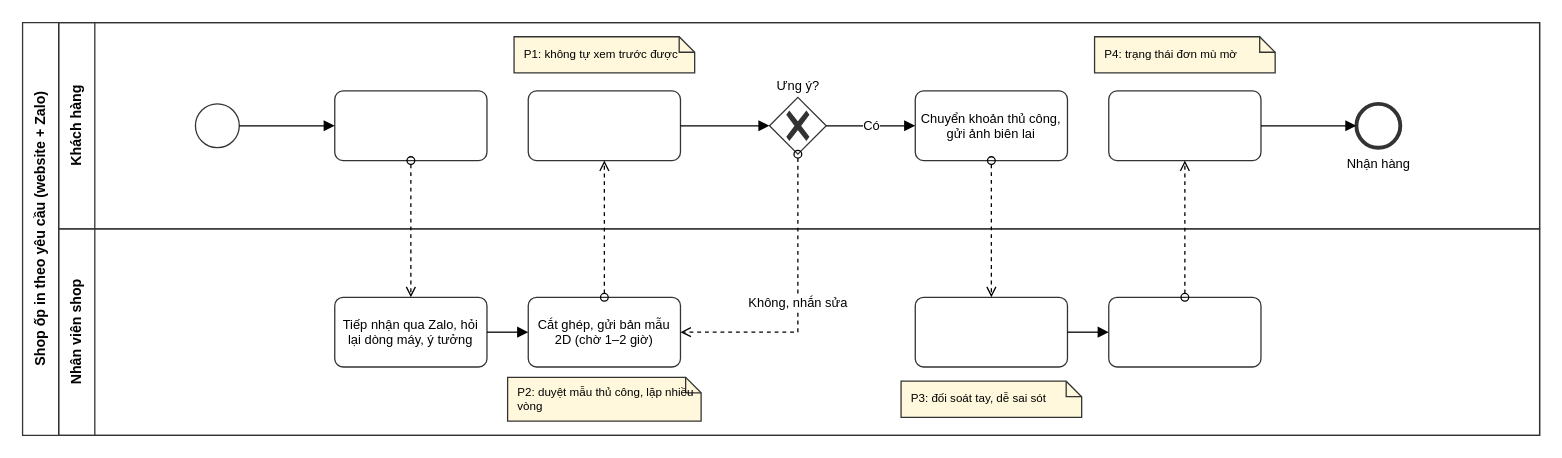
The diagram is 1562 pixels wide and 458 high, and some of its shapes have lost their labels. Here are the shapes that lost their labels. From the top down, the centre of each, then its label:
(x=216, y=125): Có nhu cầu ốp riêng
(x=410, y=125): Tải ảnh / mô tả ý tưởng, nhắn tin cho shop
(x=603, y=125): Xem bản mẫu phẳng trong khung chat
(x=1184, y=125): Nhắn hỏi tình trạng đơn, chờ phản hồi
(x=990, y=331): Đối soát tay, ghi đơn vào sổ / Excel
(x=1184, y=331): In, đóng gói, gửi vận chuyển
